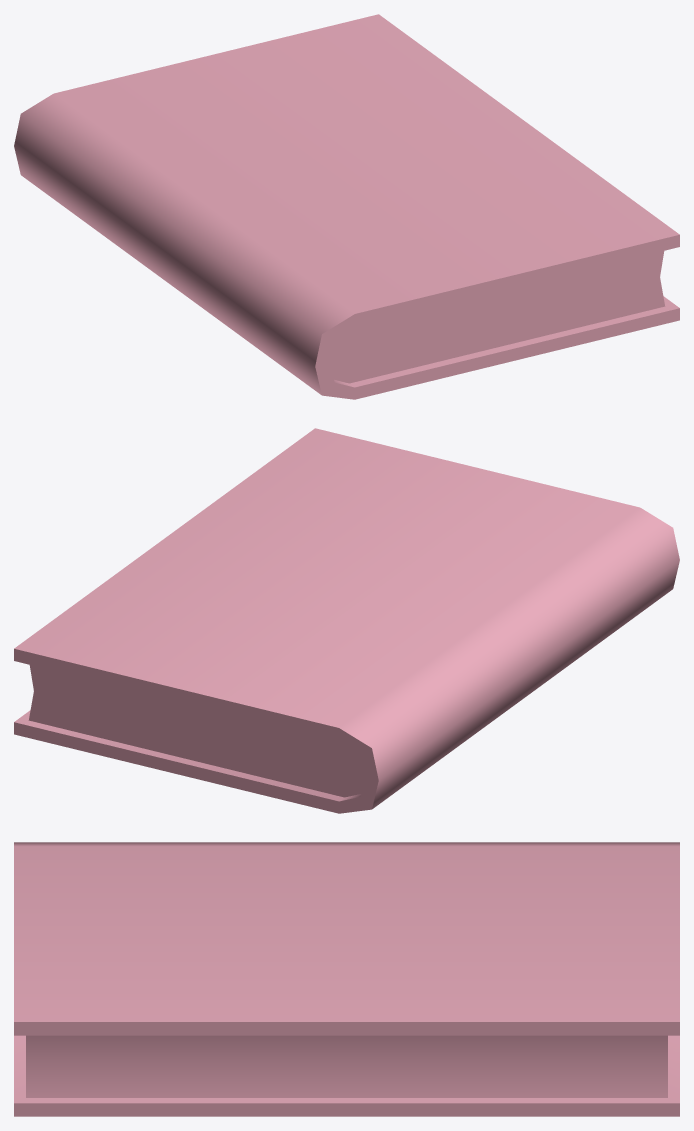
The model's file is BookGreen.fbx.
The picture shows the model from 3 angles, top to bottom: view 1: azimuth 30°, elevation 25°; view 2: azimuth 150°, elevation 25°; view 3: azimuth 270°, elevation 25°; orthographic projection. The views are drawn at different scales.
Parts seen in each view (by area): view 1: BookGreen; view 2: BookGreen; view 3: BookGreen.
Boxes of the visible parts, <box> form: BookGreen: <box>14,14,679,399</box>; BookGreen: <box>14,428,679,813</box>; BookGreen: <box>14,842,679,1116</box>.
Bounding box in the file's own units: 28.58 × 6.42 × 40.87.
